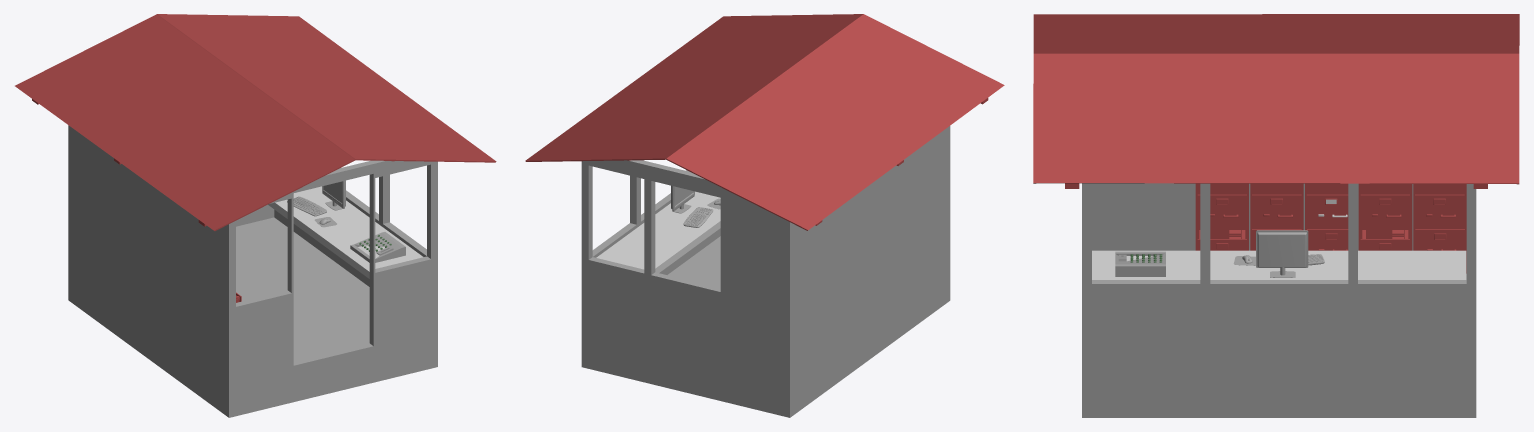
The model's file is Hut.fbx.
3 renders of one model, left to right at view 1: azimuth 30°, elevation 25°; view 2: azimuth 150°, elevation 25°; view 3: azimuth 270°, elevation 25°, orthographic. The views are drawn at different scales.
Parts seen in each view (by area): view 1: StaticObjectsHaeuschenBuildingWalls, Group_029, StaticObjectsHaeuschenBuildingTable, StaticObjectsHaeuschenPC, Box1Box1StaticObjectsHaeuschen; view 2: StaticObjectsHaeuschenBuildingWalls, Group_029, StaticObjectsHaeuschenBuildingTable, StaticObjectsHaeuschenPC; view 3: Group_029, StaticObjectsHaeuschenBuildingWalls, StaticObjectsHaeuschenBuildingTable, StaticObjectsHaeuschenCabinetsMesh1, StaticObjectsHaeuschenCabinetsMesh, StaticObjectsHaeuschenMesh3Cabinets, StaticObjectsHaeuschenPC, StaticObjectsHaeuschenCabinetsMesh4, StaticObjectsHaeuschenCabinetsMesh2, Box1Box1StaticObjectsHaeuschen, Draw3MoveableObjectsHaeuschen, Draw3MoveableObjectsHaeuschen1.
Part boxes in pixels (x1,y1,x2,y2): StaticObjectsHaeuschenBuildingWalls: (68,125,437,417); Group_029: (15,14,496,230); StaticObjectsHaeuschenBuildingTable: (268,186,423,278); StaticObjectsHaeuschenPC: (287,180,345,227); Box1Box1StaticObjectsHaeuschen: (350,232,405,262); StaticObjectsHaeuschenBuildingWalls: (581,126,950,417); Group_029: (525,14,1004,230); StaticObjectsHaeuschenBuildingTable: (596,191,720,272); StaticObjectsHaeuschenPC: (671,170,720,227); Group_029: (1033,14,1519,184); StaticObjectsHaeuschenBuildingWalls: (1082,183,1476,417); StaticObjectsHaeuschenBuildingTable: (1092,250,1466,279); StaticObjectsHaeuschenCabinetsMesh1: (1359,183,1412,250); StaticObjectsHaeuschenCabinetsMesh: (1195,183,1248,250); StaticObjectsHaeuschenMesh3Cabinets: (1413,184,1466,273); StaticObjectsHaeuschenPC: (1234,230,1324,277); StaticObjectsHaeuschenCabinetsMesh4: (1250,183,1303,250); StaticObjectsHaeuschenCabinetsMesh2: (1305,183,1358,250); Box1Box1StaticObjectsHaeuschen: (1115,251,1165,276); Draw3MoveableObjectsHaeuschen: (1415,229,1464,250); Draw3MoveableObjectsHaeuschen1: (1307,229,1348,250).
Bounding box in the file's own units: 408 × 339 × 493.
